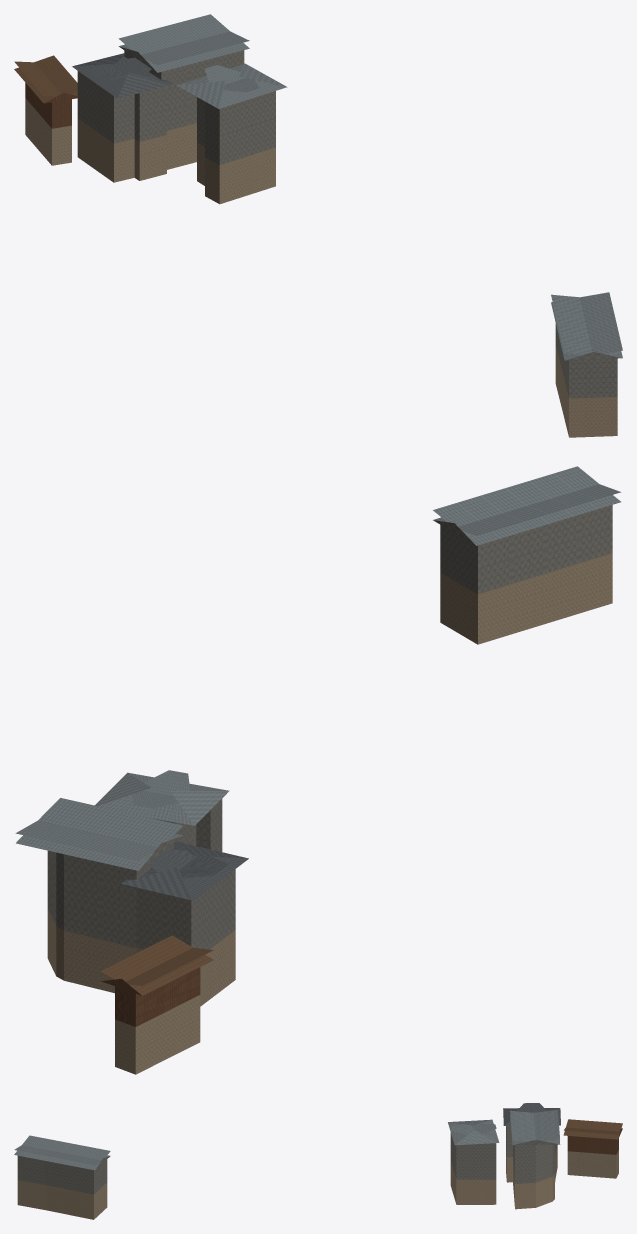
The model's file is bld_c31_-39_459.gltf.
3 renders of one model, top to bottom at view 1: azimuth 30°, elevation 25°; view 2: azimuth 150°, elevation 25°; view 3: azimuth 270°, elevation 25°, orthographic. The views are drawn at different scales.
Parts seen in each view (by area): view 1: bld_c31_-39_459; view 2: bld_c31_-39_459; view 3: bld_c31_-39_459.
Boxes of the visible parts, bbox=[...] form: bld_c31_-39_459: bbox=[14, 14, 622, 437]; bld_c31_-39_459: bbox=[15, 466, 621, 1074]; bld_c31_-39_459: bbox=[14, 1103, 622, 1219].
Size of the model in its own units: 26.91 by 15.6 by 112.
Materials: 8 (8 with a texture image).
